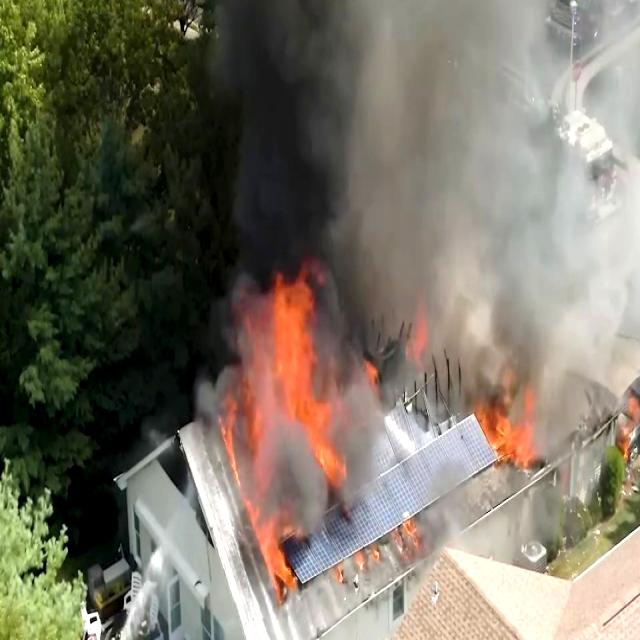fire: (199, 255, 337, 574), (462, 386, 539, 474)
smoke: (355, 0, 516, 299)
